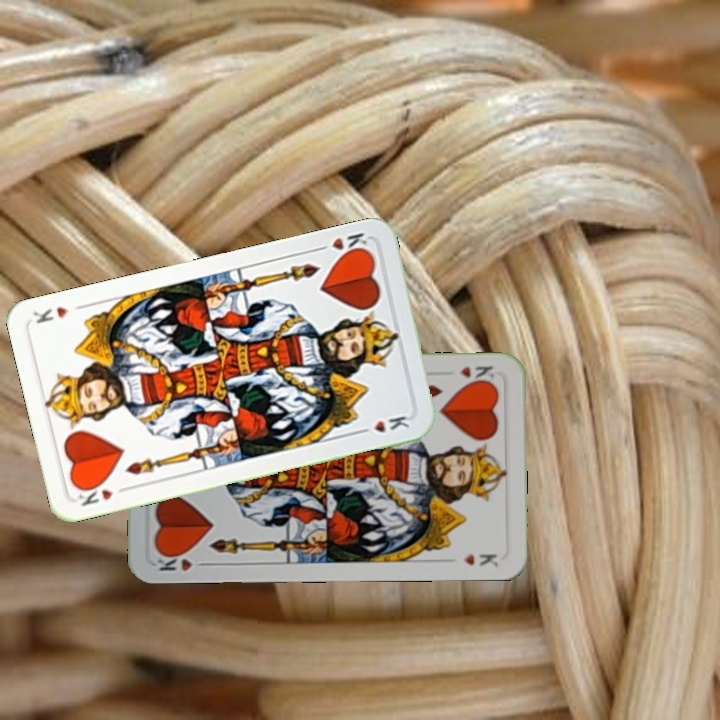HK: (312, 228, 372, 260), (74, 478, 132, 509), (153, 548, 211, 574), (456, 361, 500, 386)
